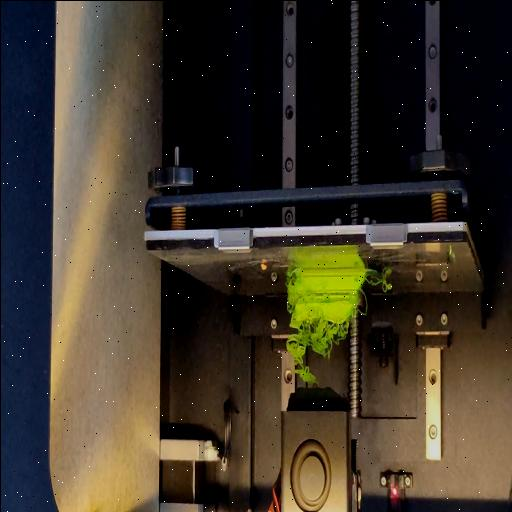spaghetti: (284, 315, 349, 383), (365, 270, 393, 292), (359, 286, 367, 321), (286, 264, 296, 278)
